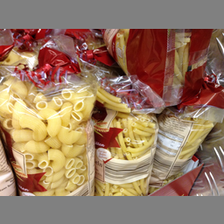pasta: (1, 56, 94, 194), (92, 75, 160, 195)
